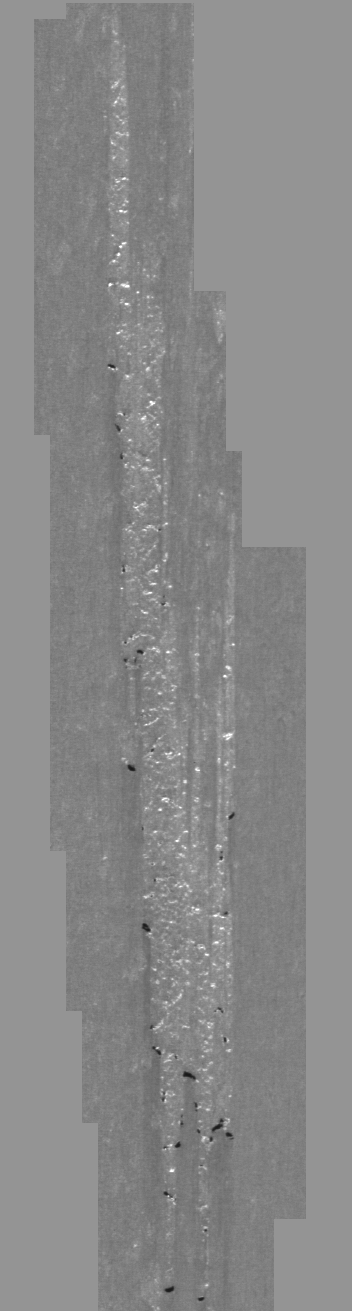oxl: (35, 10, 317, 1301)
